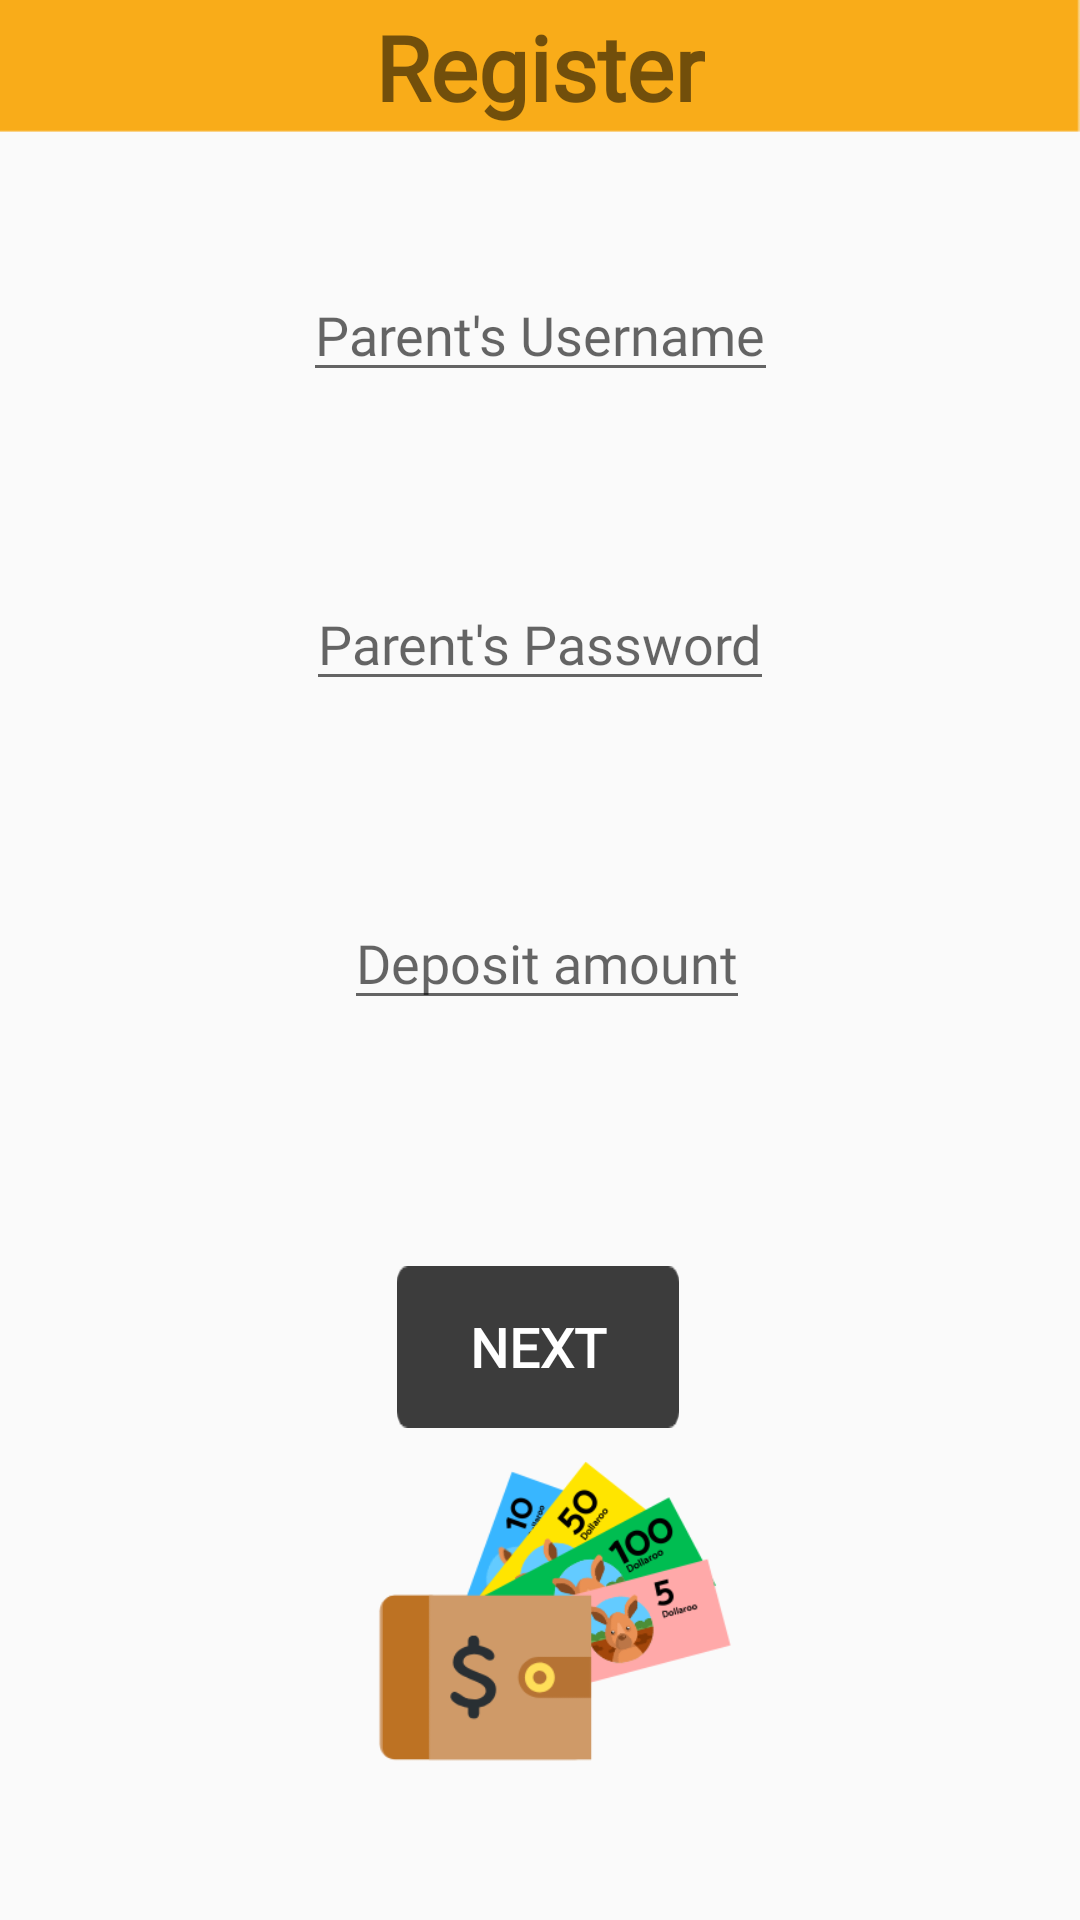

Where to tap for icons on this 1080px x 1920px app screen, as (x,y):
wallet cash: (555,1611)
